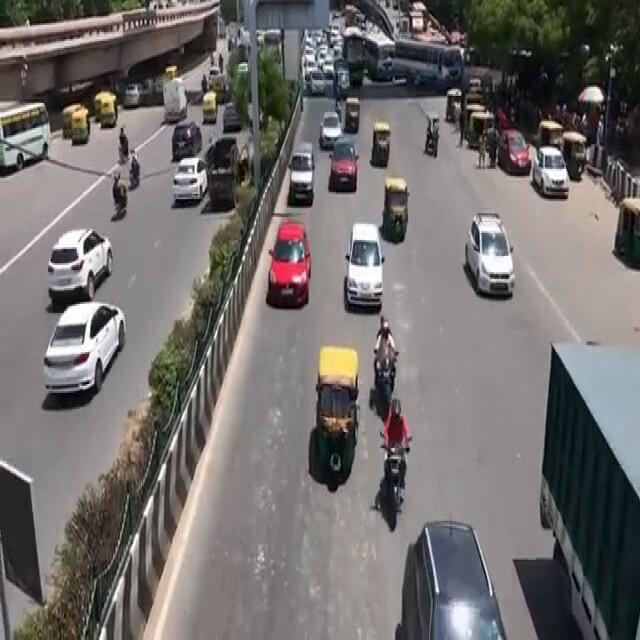three_wheeler: (300, 339, 369, 505)
